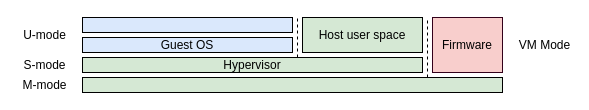
Image size: 589x110. Some labels were removed from this diagram. Each missing label, with the box of its shape:
Guest Userspace: (82, 16, 292, 32)
Miralis: (82, 76, 502, 92)
